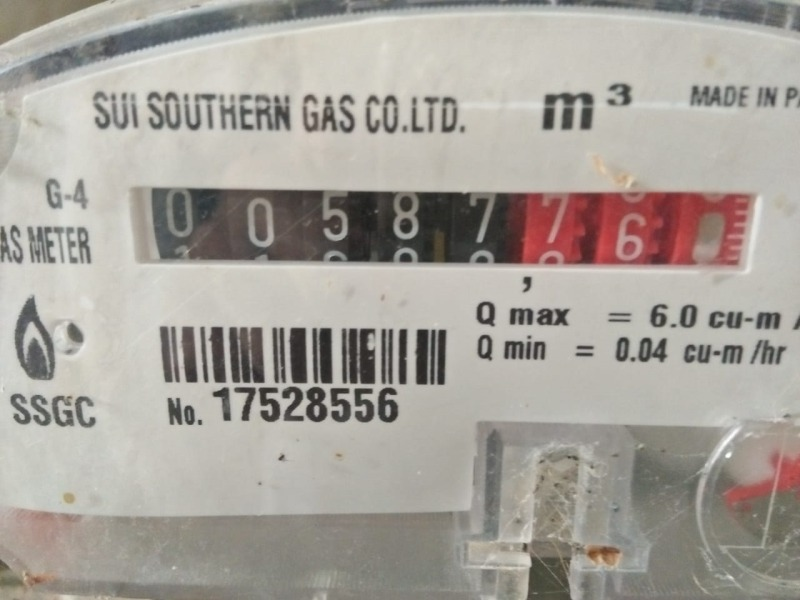ssgc: (123, 182, 754, 272)
